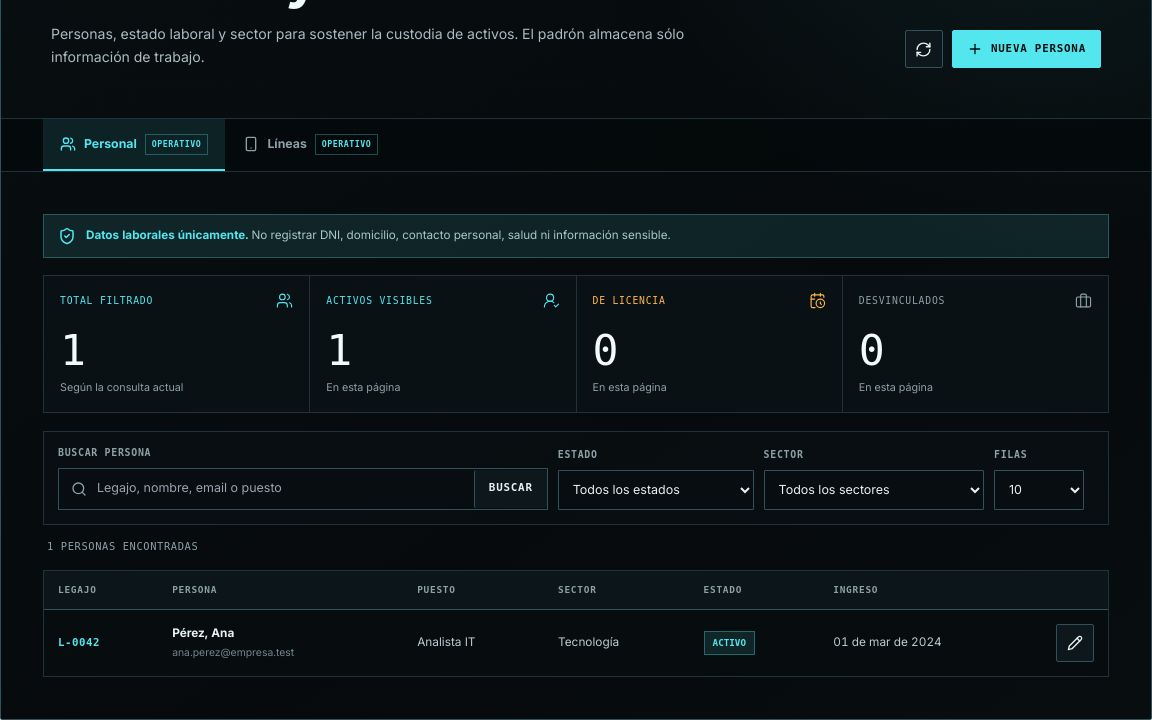
Test: ItStaffPage › muestra vacíos honestos y salta del resumen a la edición
(page scrolled)
What coordinates should you click on to do the following:
click the button named "Ver resumen de Ana Pérez"
I would click on:
 (203, 633)
Its box is [172,624,234,642].
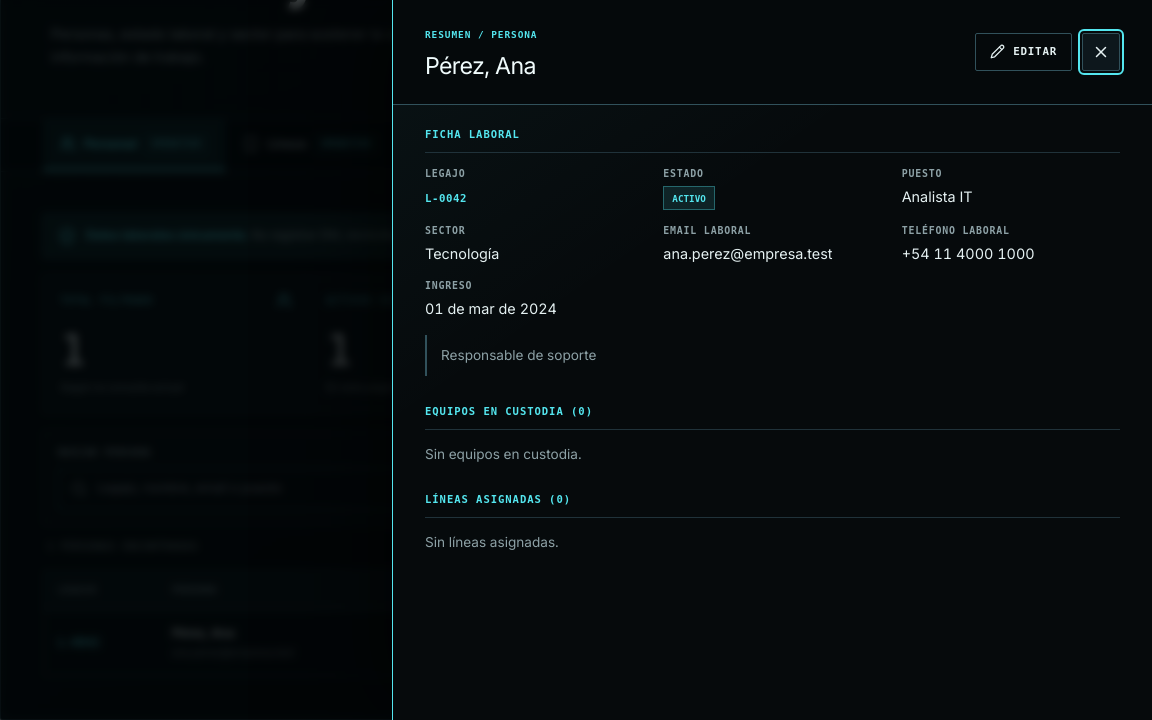
Expected: the text "Sin equipos en custodia." is shown, [425,446,582,462]
Expected: the text "Sin líneas asignadas." is shown, [425,534,559,550]
What coordinates should you click on to do the following:
click the button "Editar"
I would click on:
 (1024, 52)
Its box is [975,33,1072,71].
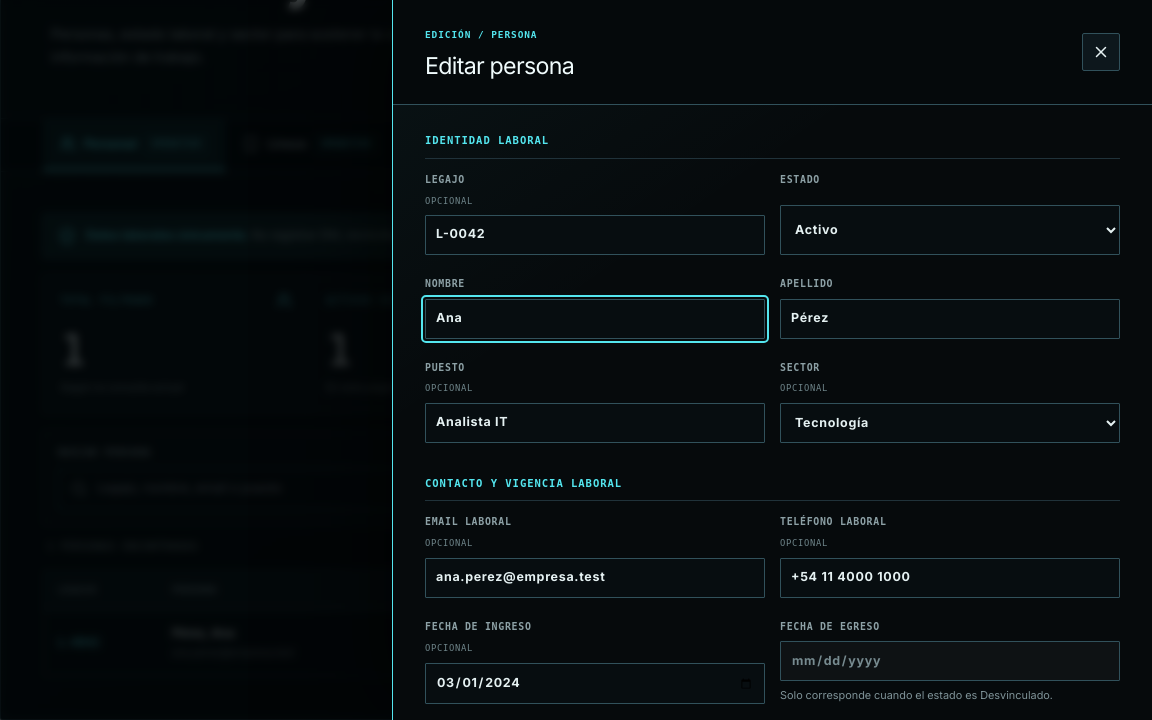
Expected: the dialog "Editar persona" is shown
